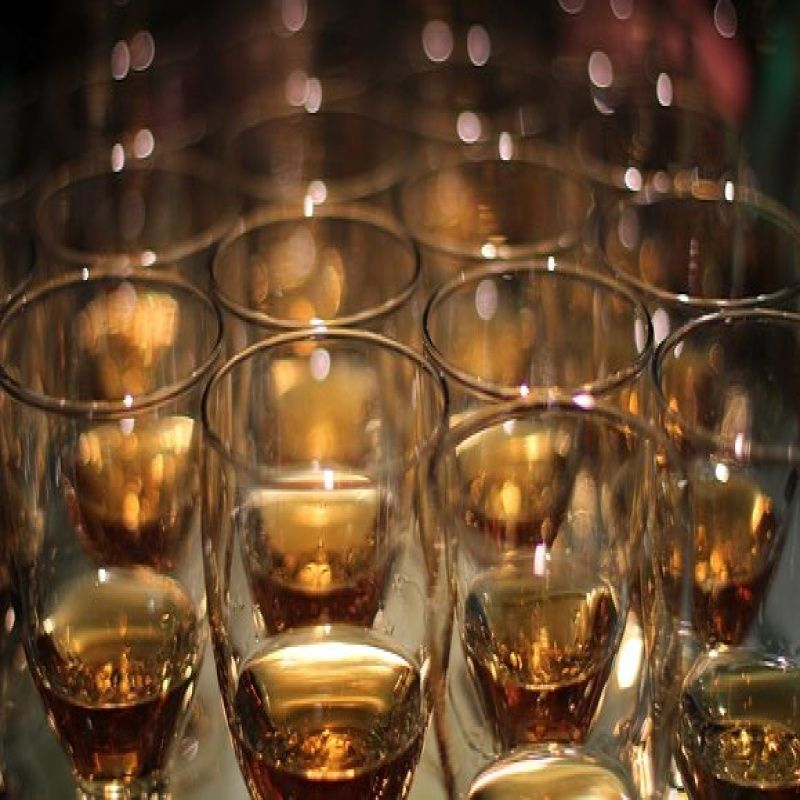whiskey: (202, 333, 456, 800), (452, 263, 652, 800), (11, 289, 219, 800)
